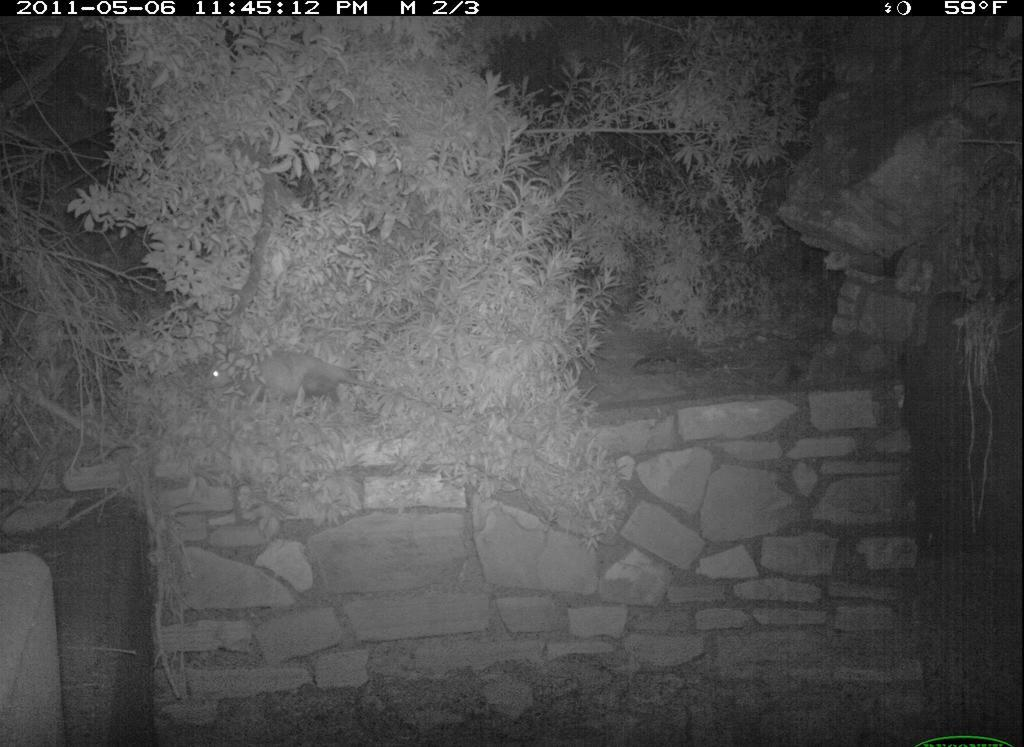opossum: (201, 346, 440, 420)
